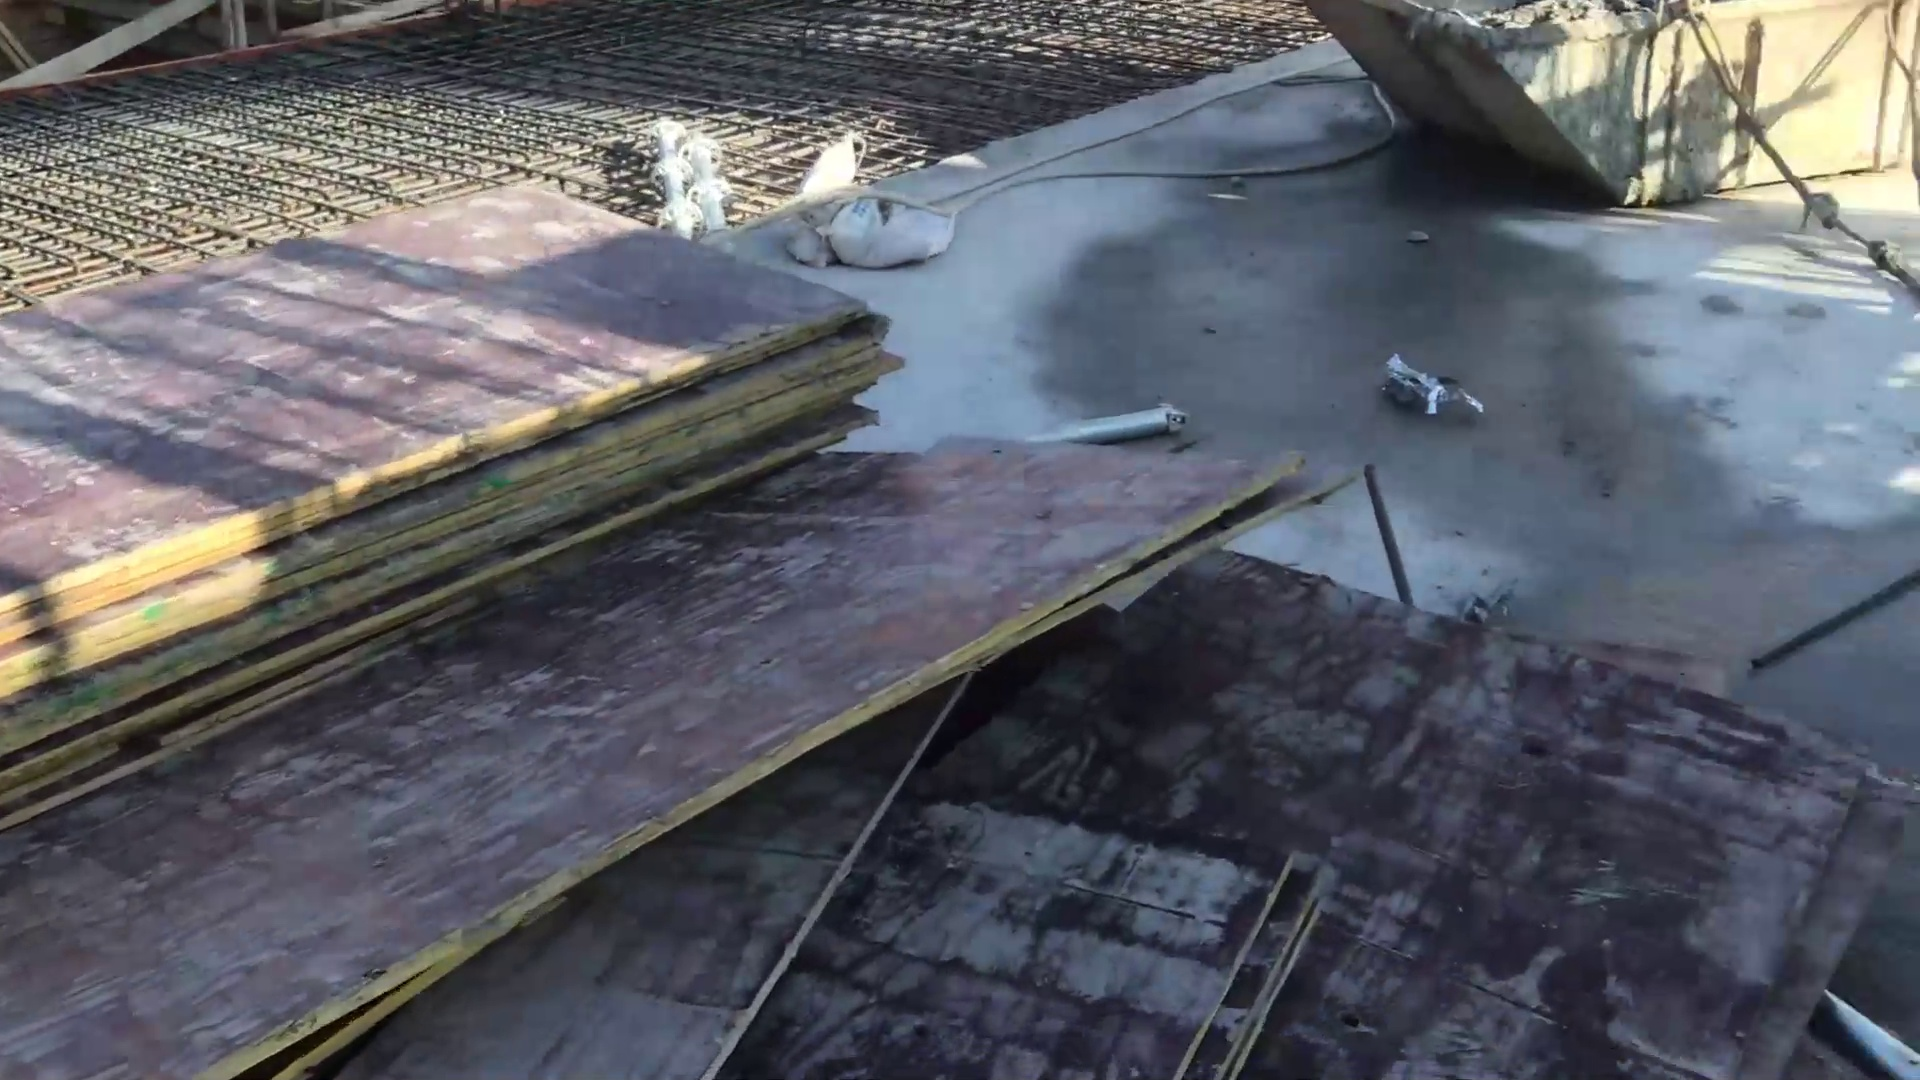board: (26, 191, 833, 820)
